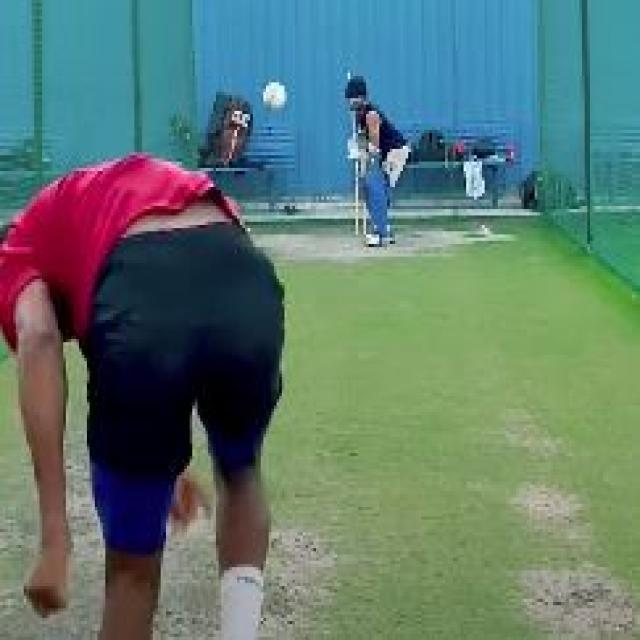ball: (262, 78, 288, 118)
